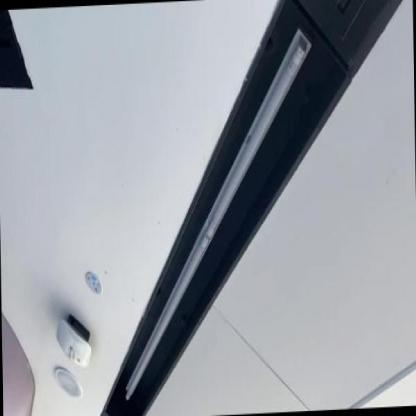light_off: (114, 23, 322, 407)
